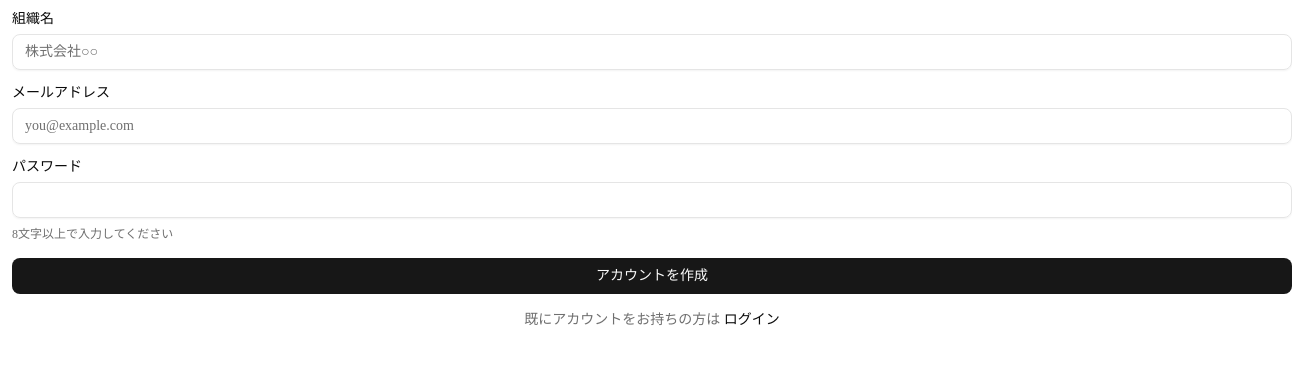
Scenario: SignupForm › メールアドレスが不正な形式のとき、Zod のメッセージを表示する
The image size is (1304, 367).
In the field labelled "組織名": (652, 52) [12,34,1292,70], type "株式会社テスト"
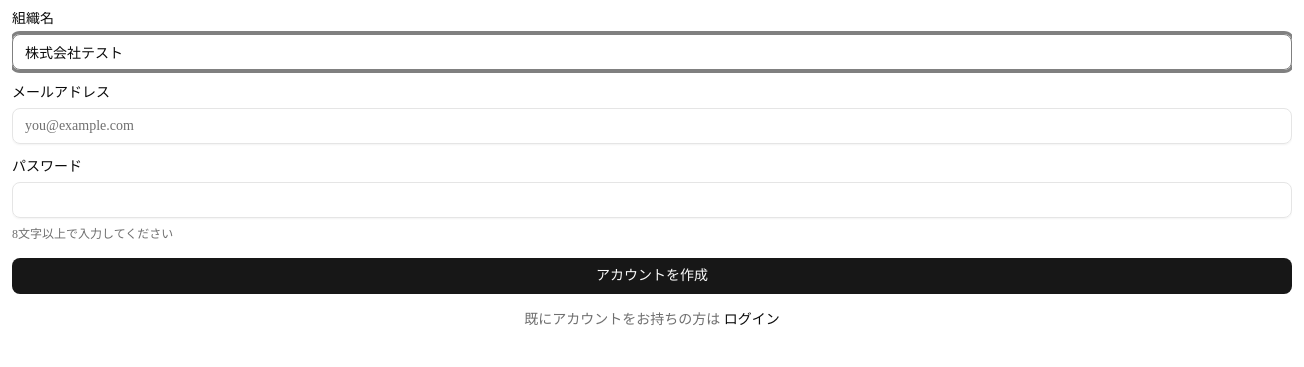
In the field labelled "メールアドレス": (652, 126) [12,108,1292,144], type "user@localhost"
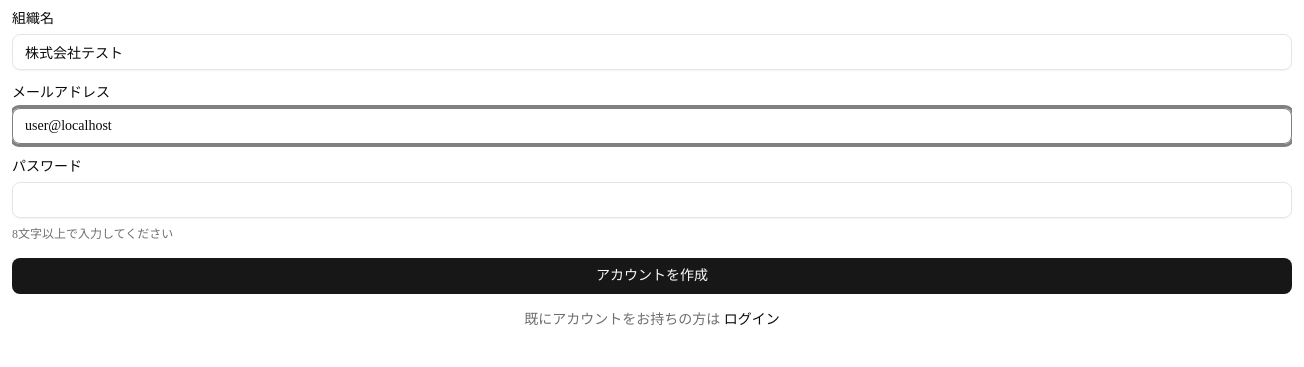
In the password field labelled "パスワード": (652, 200) [12,182,1292,218], type "password123"
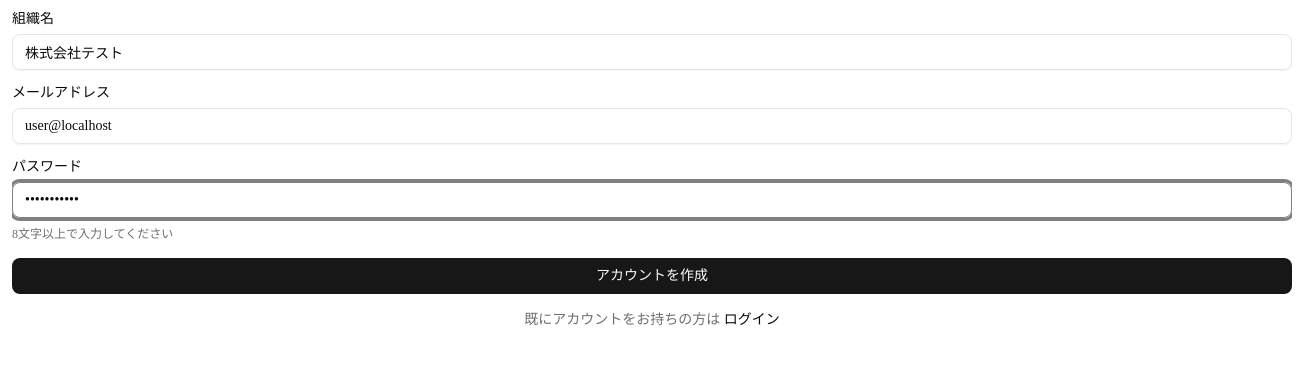
Click the button "アカウントを作成": (652, 276) [12,258,1292,294]
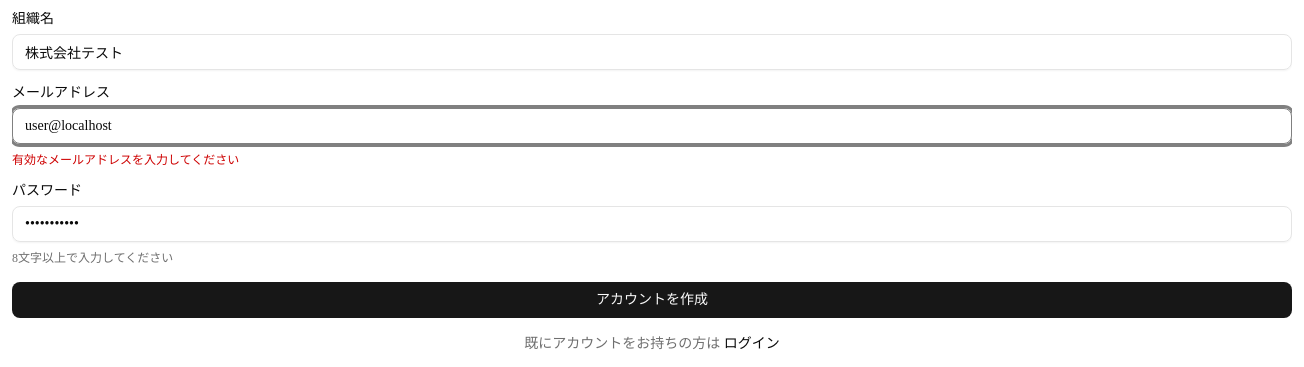
Result: the text "有効なメールアドレスを入力してください" is shown at [12,153,239,167]
